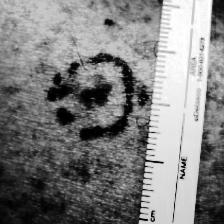Benign Marking or Mole: (76, 78, 122, 110)
